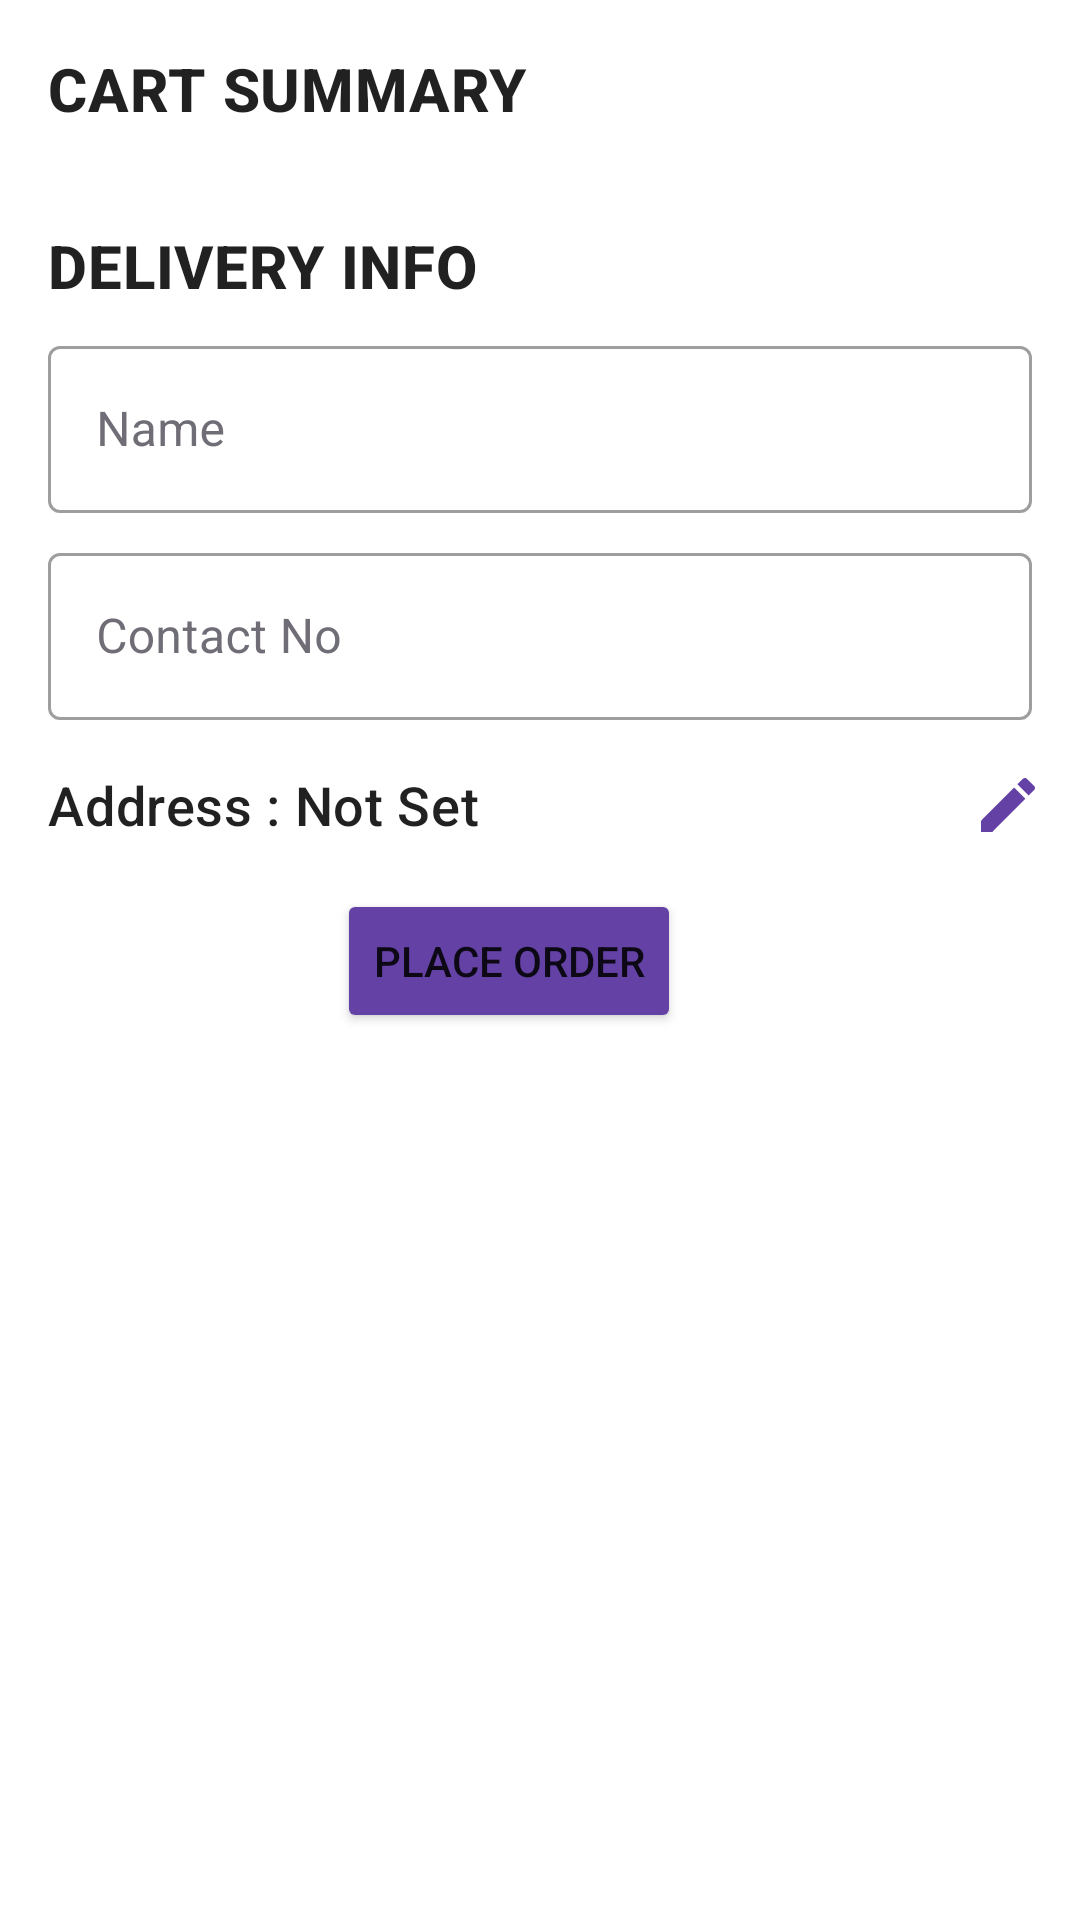

Where icons sit on this 1080px x 1920px app screen, as (x1, y1, x2, y2):
edit: (981, 778, 1035, 832)
